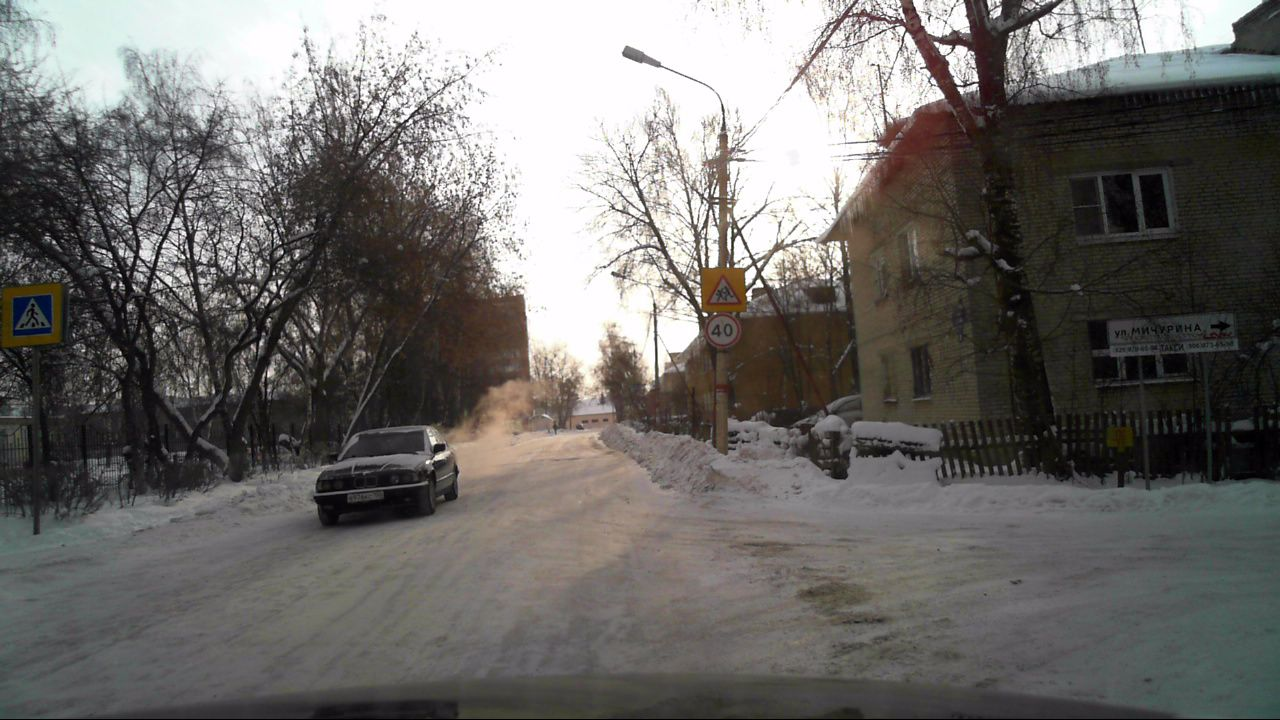speed_warning_40: (706, 315, 738, 347)
